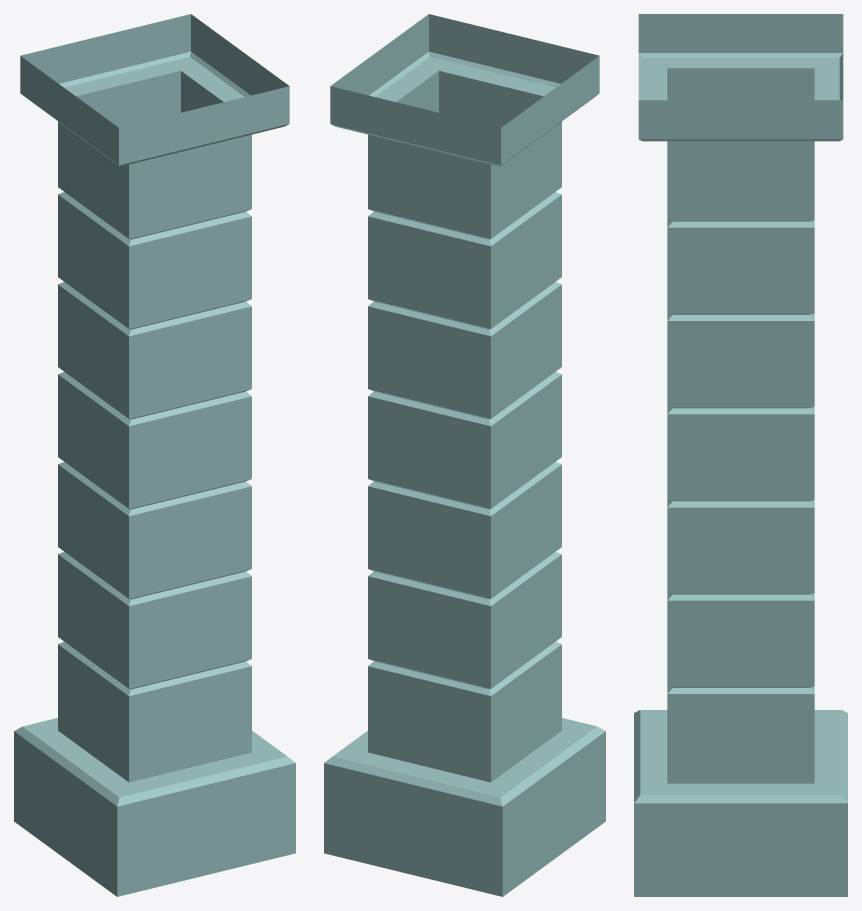
The model's file is CubePiller_1.fbx.
3 views of the same model, side by side, from view 1: azimuth 30°, elevation 25°; view 2: azimuth 150°, elevation 25°; view 3: azimuth 270°, elevation 25° (orthographic). The views are drawn at different scales.
Visible parts, largest first — view 1: SqPiller, SqPillerFoot, SqPillerHead; view 2: SqPiller, SqPillerFoot, SqPillerHead; view 3: SqPiller, SqPillerFoot, SqPillerHead.
Part boxes in pixels (x1,y1,x2,y2): SqPiller: (58, 71, 251, 782); SqPillerFoot: (14, 718, 295, 896); SqPillerHead: (20, 14, 289, 166); SqPiller: (368, 71, 561, 782); SqPillerFoot: (324, 718, 605, 896); SqPillerHead: (330, 14, 599, 166); SqPiller: (667, 68, 814, 783); SqPillerFoot: (634, 710, 847, 896); SqPillerHead: (638, 14, 843, 141).
Bounding box in the file's own units: 93.09 × 381 × 93.09.
